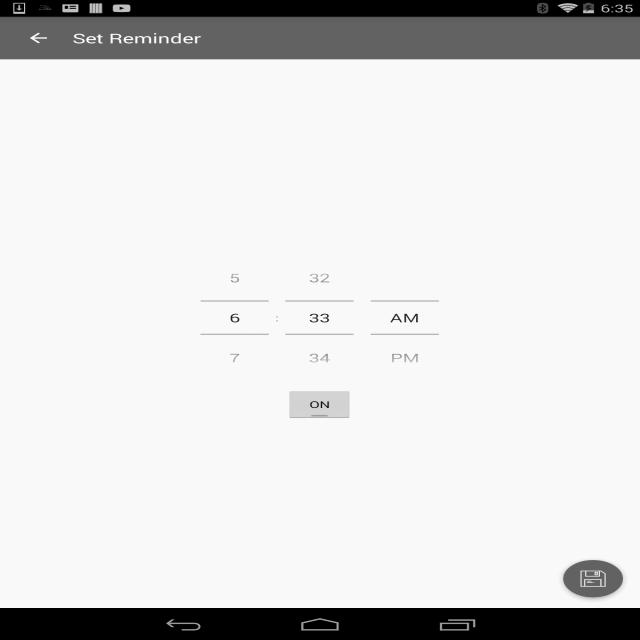Button: (200, 333, 269, 378), (285, 333, 354, 378), (371, 333, 439, 378), (200, 258, 269, 302), (285, 258, 354, 302)
EditText: (200, 302, 269, 334), (285, 302, 354, 334), (371, 302, 439, 334)
ImageButton: (550, 548, 636, 609), (9, 17, 68, 59)
TextView: (73, 29, 201, 47), (275, 311, 279, 324)
